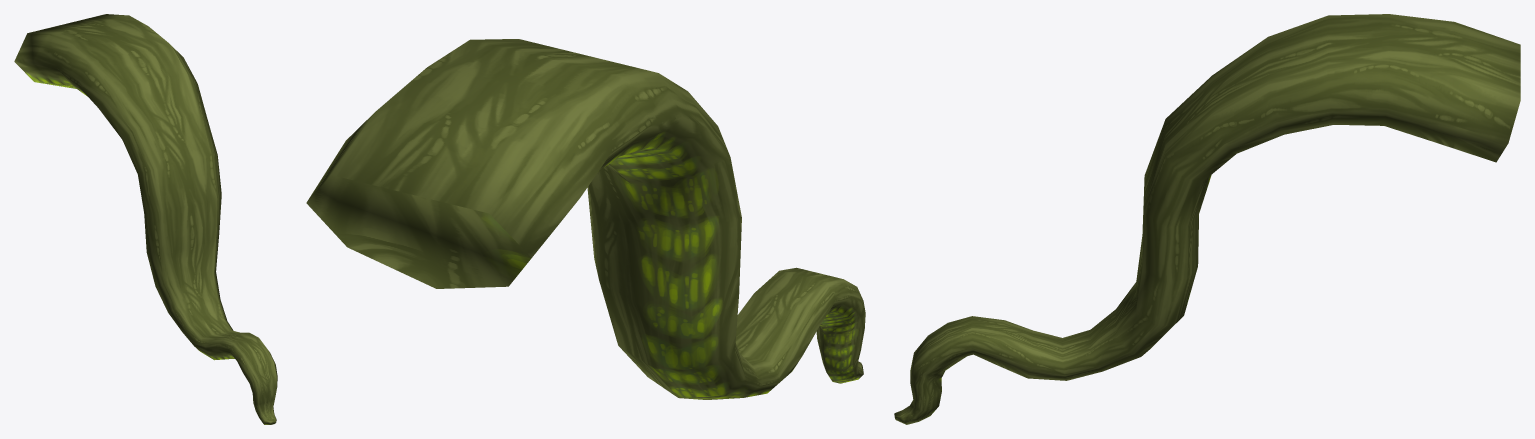
Rendered from tt_forest_root01.FBX.
The picture shows the model from 3 angles, left to right: view 1: azimuth 30°, elevation 25°; view 2: azimuth 150°, elevation 25°; view 3: azimuth 270°, elevation 25°; orthographic projection. The views are drawn at different scales.
Parts seen in each view (by area): view 1: tt_forest_root01; view 2: tt_forest_root01; view 3: tt_forest_root01.
Part boxes in pixels (x1,y1,x2,y2): tt_forest_root01: (14,14,277,424); tt_forest_root01: (306,39,865,399); tt_forest_root01: (894,14,1520,424).
Size of the model in its own units: 207 by 448 by 659.
